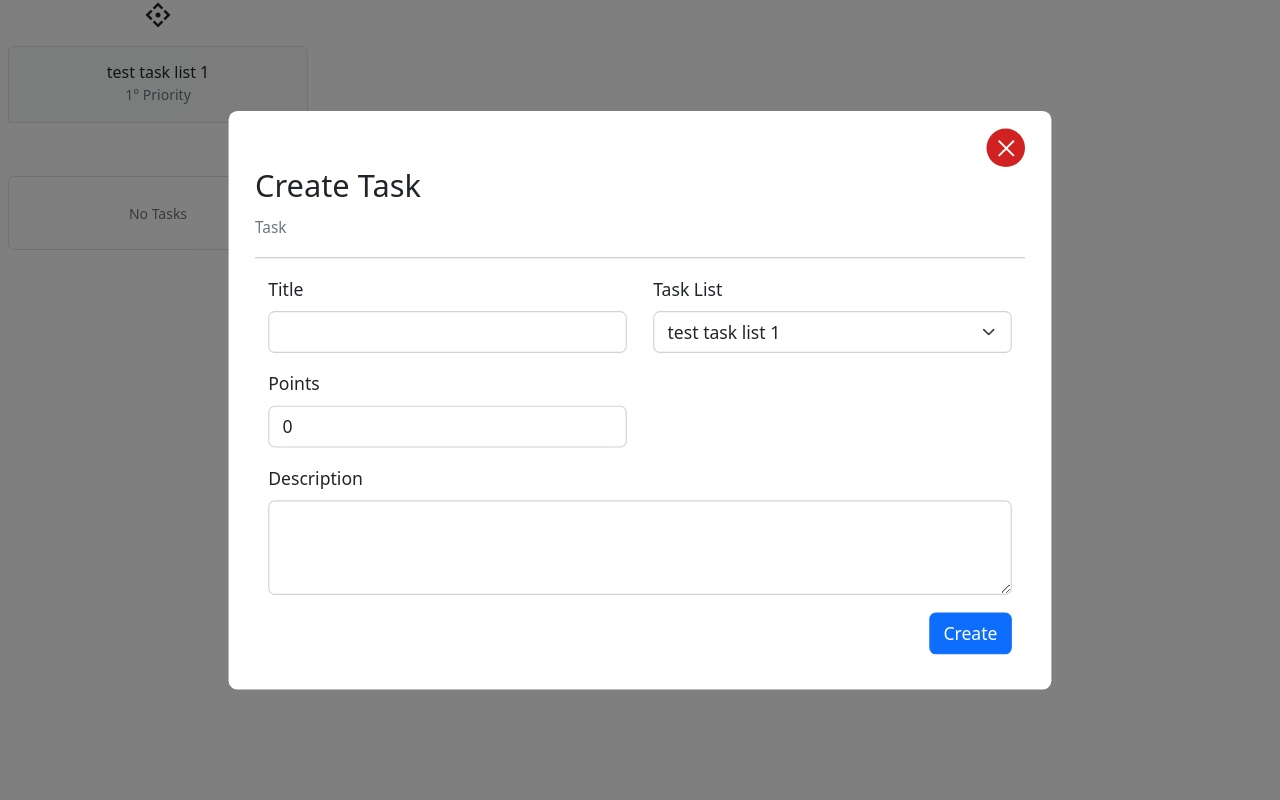
CreateTaskModal adds a new Task
Type "Task test" into the field with test id "create-task-modal-input-title" at (448, 332), box [268,311,627,352]
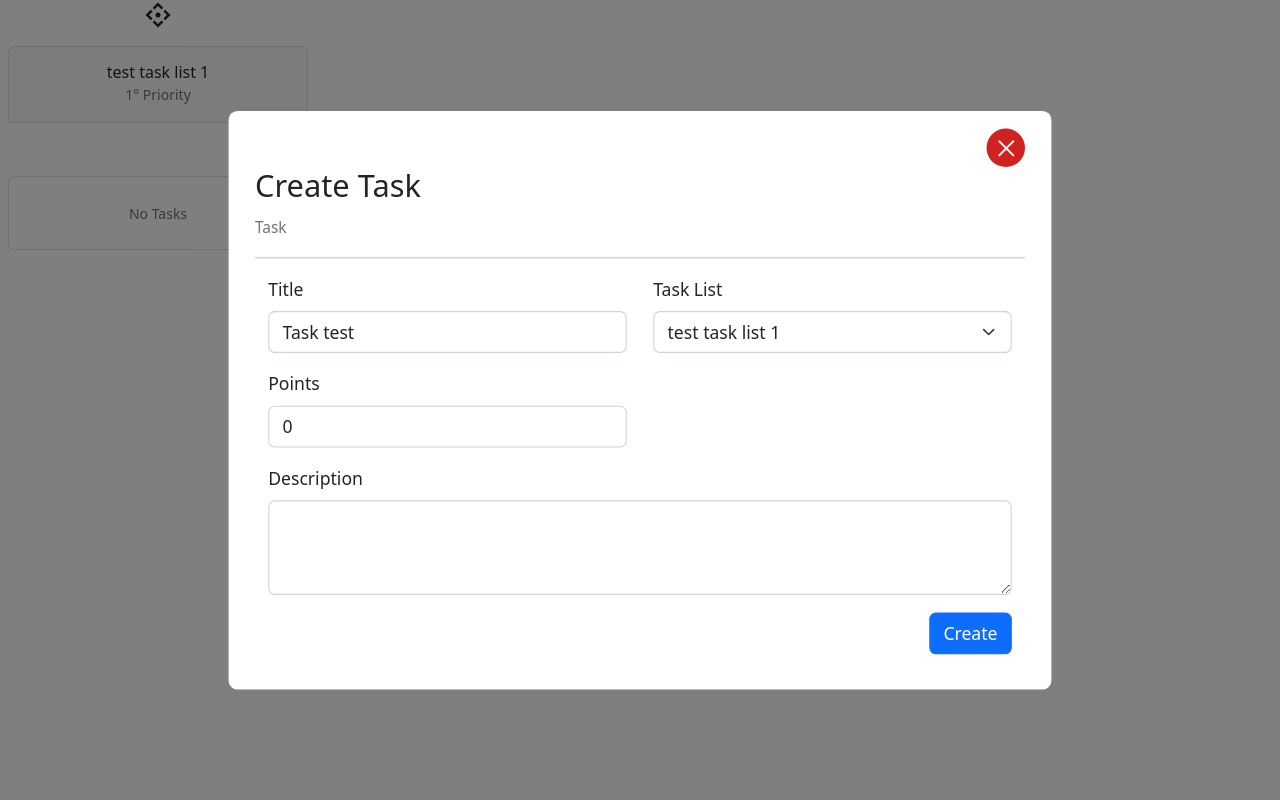
Click the button with test id "modal-create-task-btn-submit" at (970, 633), box [929,612,1012,654]
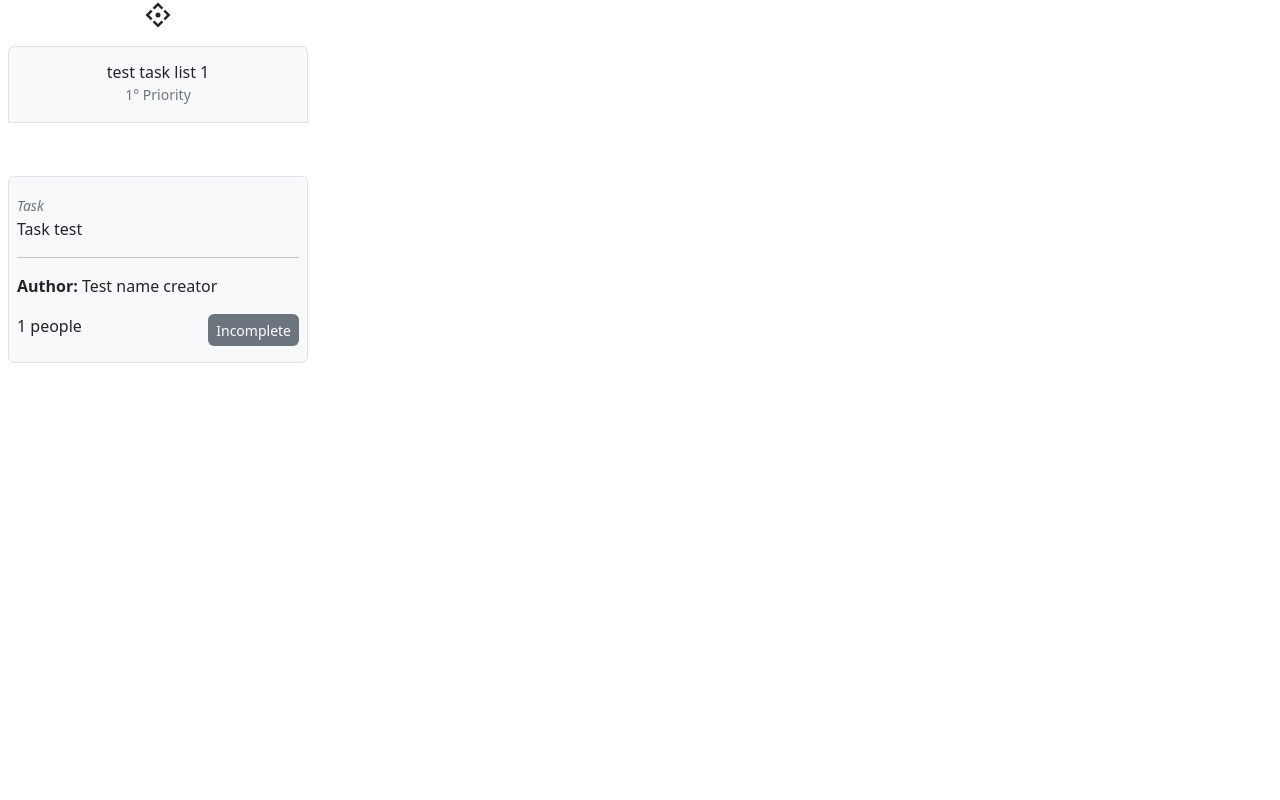
Now the text with test id "task-card-title" reads "Task test", box [17,218,82,240]
